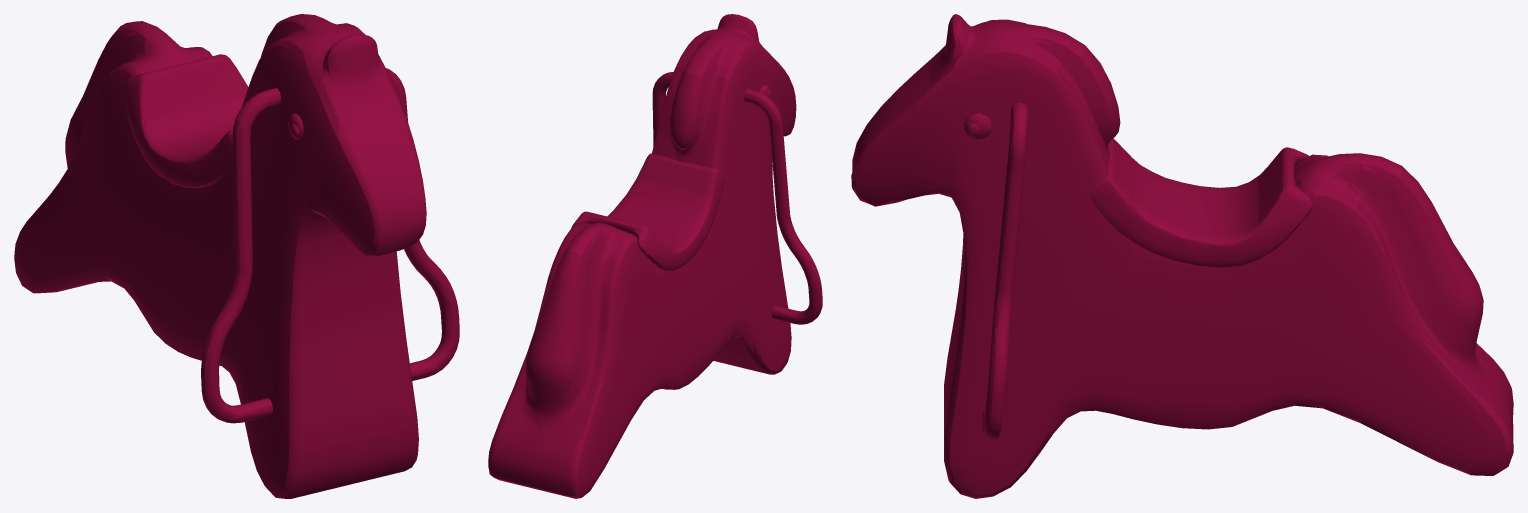
Rendered from toy.obj.
3 views of the same model, side by side, from view 1: azimuth 30°, elevation 25°; view 2: azimuth 150°, elevation 25°; view 3: azimuth 270°, elevation 25° (orthographic). The views are drawn at different scales.
Visible parts, largest first — view 1: Plane012; view 2: Plane012; view 3: Plane012.
Boxes of the visible parts, x1,y1,x2,y2 form: Plane012: [14, 14, 459, 498]; Plane012: [488, 14, 822, 498]; Plane012: [851, 14, 1513, 498].
Bounding box in the file's own units: 162 × 275 × 365.
